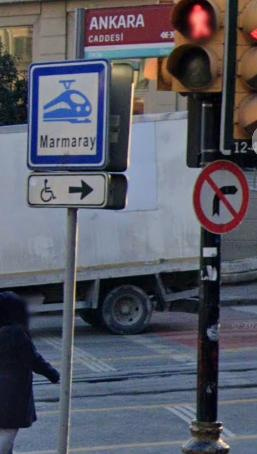rightturnsareforbidden: (193, 164, 248, 228)
